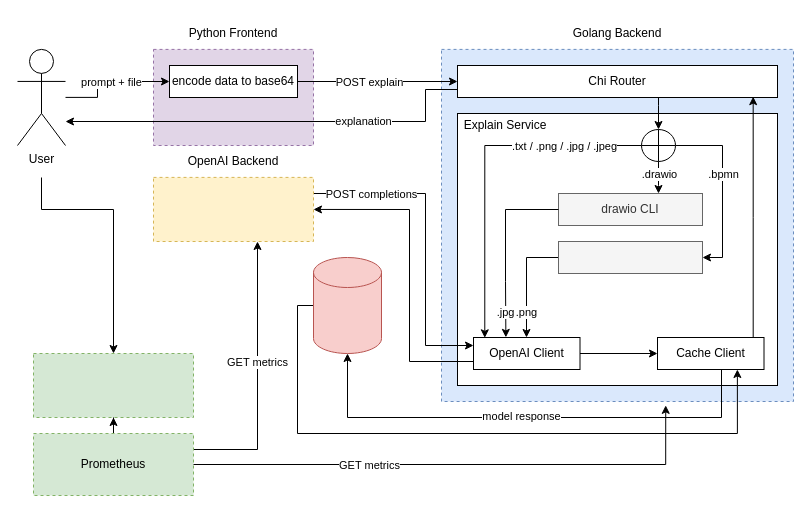
Some shapes in this 811 by 513 pixel diagram are drawn without their labels. Each missing label, with the centre of its shape:
"bpmn-to-image CLI" goes at (x=630, y=257).
"Grafana" goes at (x=113, y=385).
"llama.cpp" goes at (x=233, y=209).
"Redis" goes at (x=347, y=305).
